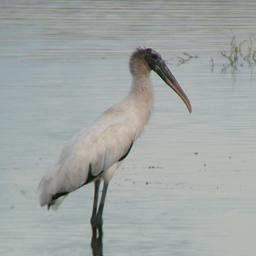bird: (73, 128, 256, 256)
